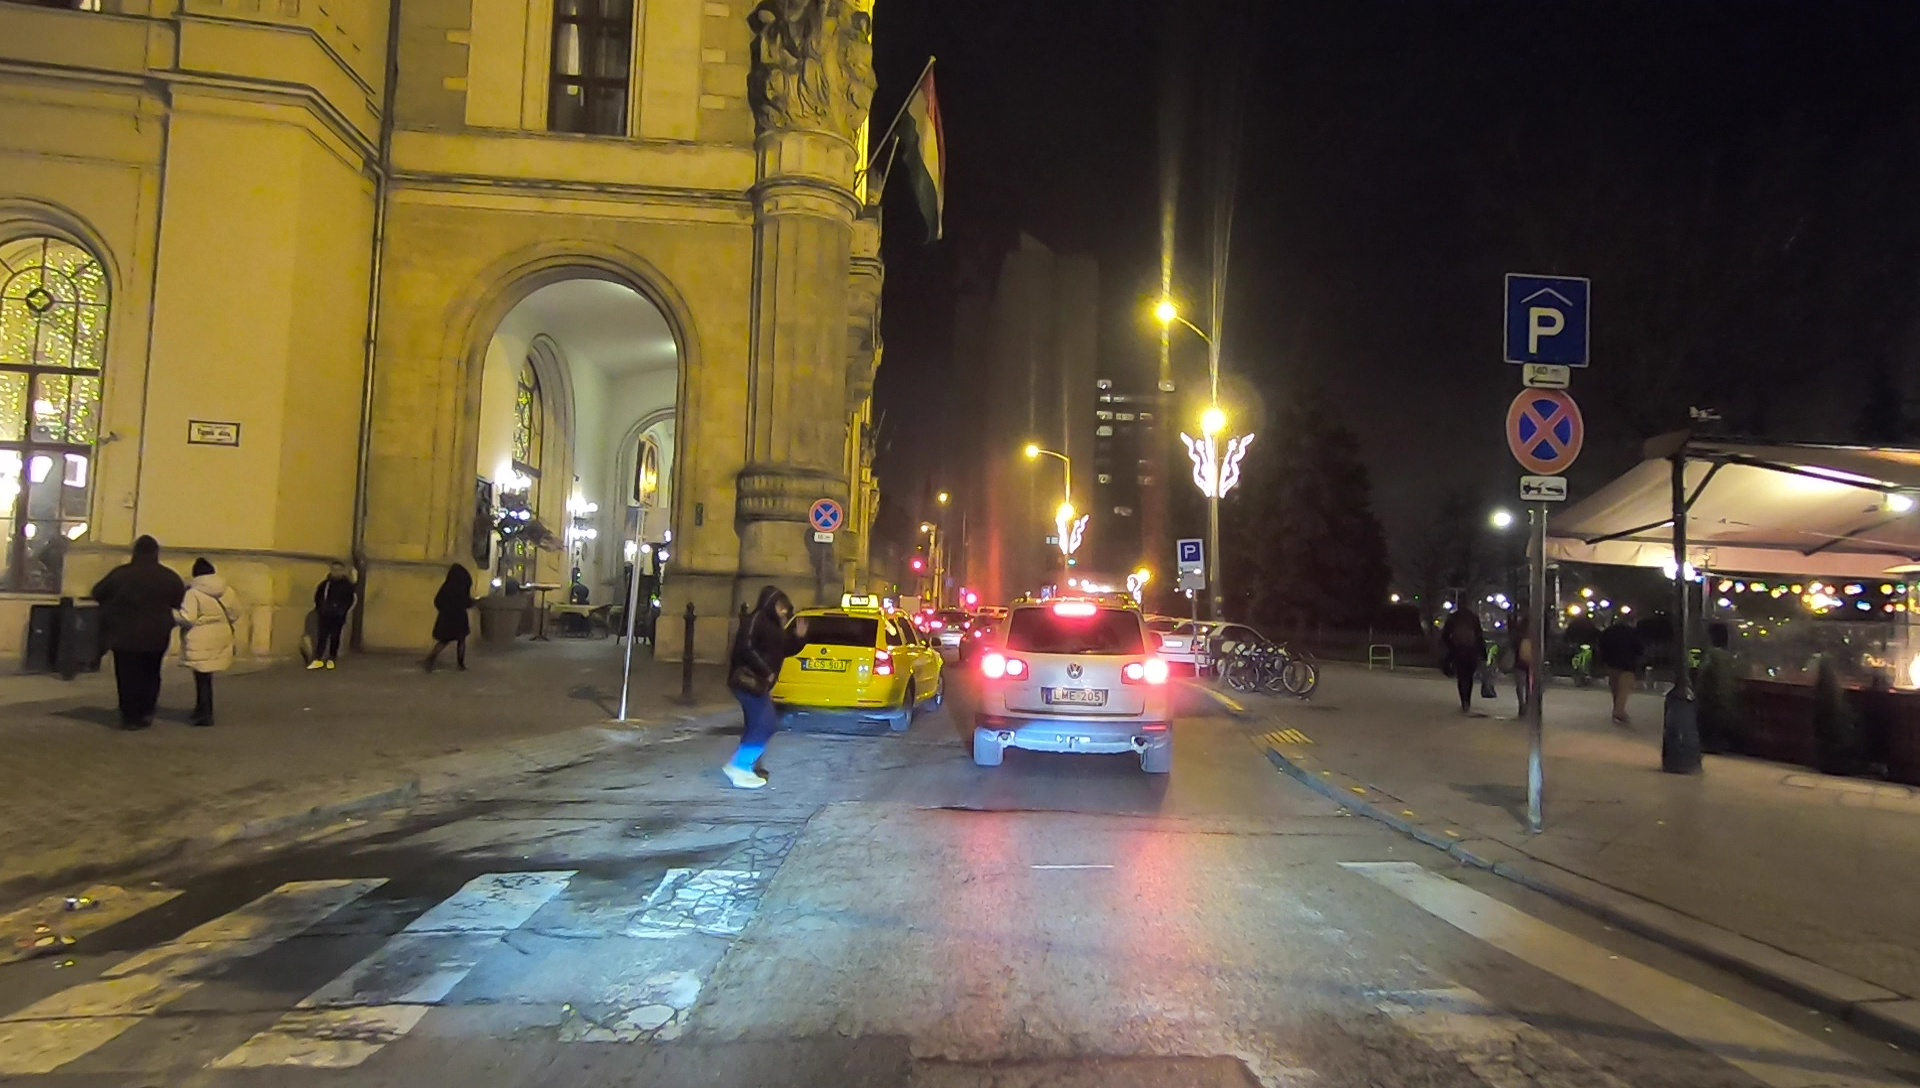person: (723, 587, 806, 791), (97, 536, 182, 732), (178, 558, 238, 726), (1439, 591, 1493, 717), (425, 561, 476, 680), (306, 550, 351, 673), (1601, 615, 1643, 732), (1510, 602, 1547, 713)
